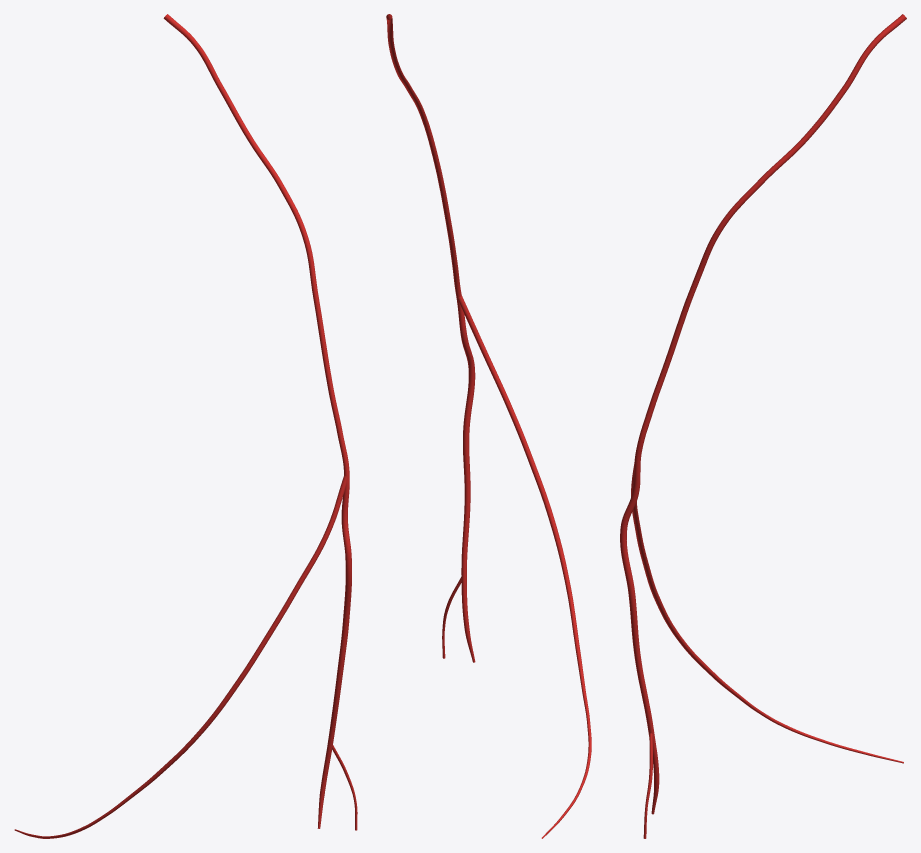
Rendered from circulatorio-internal-thoracic-artery-r.glb.
3 renders of one model, left to right at view 1: azimuth 30°, elevation 25°; view 2: azimuth 150°, elevation 25°; view 3: azimuth 270°, elevation 25°, orthographic. The views are drawn at different scales.
Visible parts, largest first — view 1: Internal thoracic artery.r, Musculophrenic artery.r, Superior epigastric artery.r; view 2: Musculophrenic artery.r, Superior epigastric artery.r, Internal thoracic artery.r; view 3: Internal thoracic artery.r, Superior epigastric artery.r, Musculophrenic artery.r.
Part boxes in pixels (bbox=[...]): Internal thoracic artery.r: bbox=[163, 14, 349, 475]; Musculophrenic artery.r: bbox=[14, 475, 346, 838]; Superior epigastric artery.r: bbox=[317, 475, 357, 830]; Musculophrenic artery.r: bbox=[458, 295, 591, 838]; Superior epigastric artery.r: bbox=[442, 297, 475, 662]; Internal thoracic artery.r: bbox=[386, 14, 461, 297]; Internal thoracic artery.r: bbox=[636, 14, 906, 451]; Superior epigastric artery.r: bbox=[620, 450, 659, 838]; Musculophrenic artery.r: bbox=[631, 464, 903, 763].
Size of the model in its own units: 0.1051 by 0.3506 by 0.1101.
